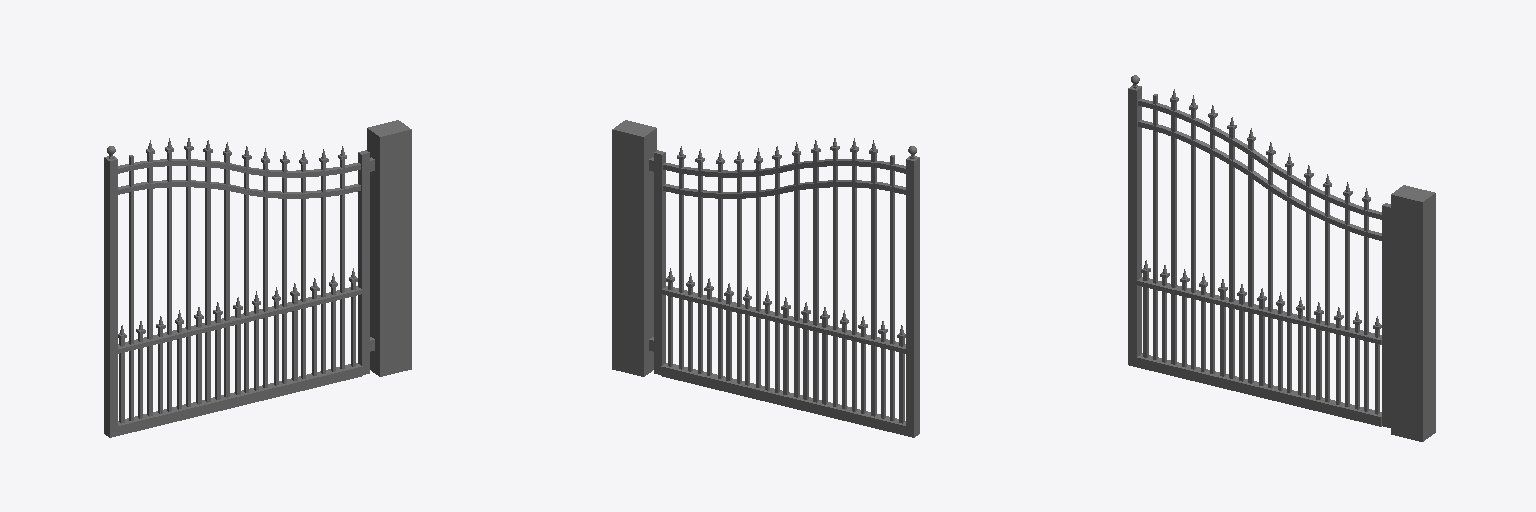
Rendered from door.obj.
The picture shows the model from 3 angles: view 1: azimuth 30°, elevation 25°; view 2: azimuth 150°, elevation 25°; view 3: azimuth 330°, elevation 25°; orthographic projection.
Parts seen in each view (by area): view 1: Cone_001_Cone_025; view 2: Cone_001_Cone_025; view 3: Cone_001_Cone_025.
Part boxes in pixels (bbox=[...]): Cone_001_Cone_025: bbox=[104, 120, 411, 437]; Cone_001_Cone_025: bbox=[612, 120, 919, 437]; Cone_001_Cone_025: bbox=[1128, 75, 1435, 441].
Size of the model in its own units: 2.31 by 2.15 by 0.175.